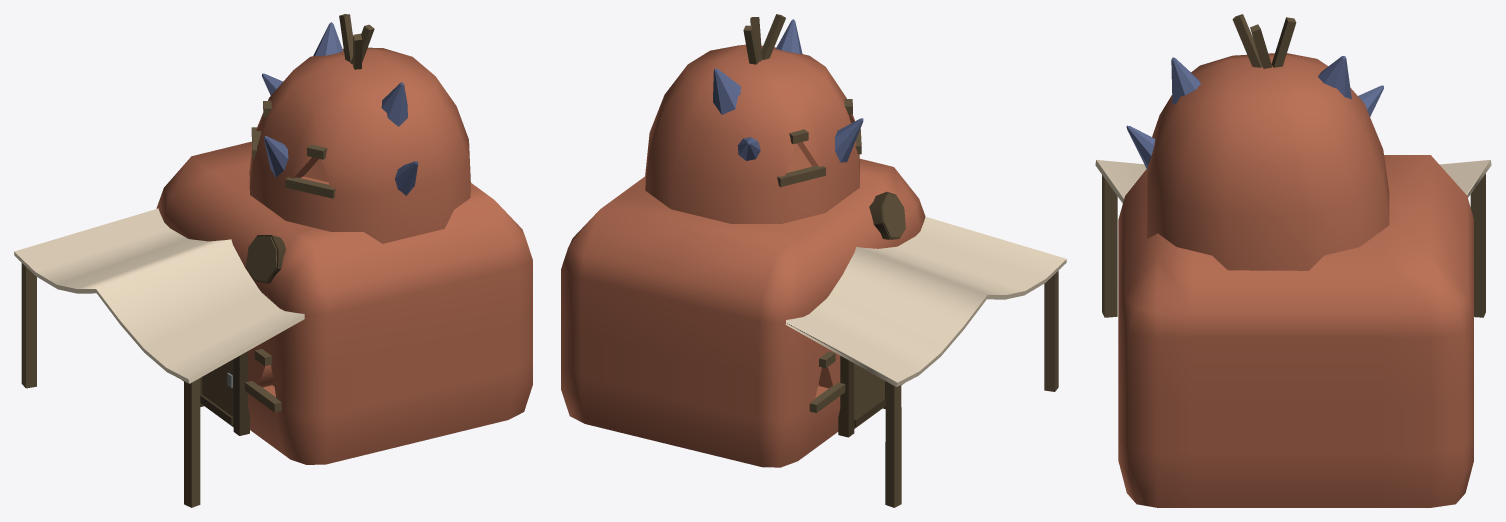
File: House_01.fbx
The picture shows the model from 3 angles, left to right: view 1: azimuth 30°, elevation 25°; view 2: azimuth 150°, elevation 25°; view 3: azimuth 270°, elevation 25°; orthographic projection. The views are drawn at different scales.
Parts seen in each view (by area): view 1: House_01_Main, House_01_Dome, House_01_Cloth, pCube2, pCube1, pCube11, pCube10, pCube28, pCube26, pCube24, pCube15; view 2: House_01_Main, House_01_Dome, House_01_Cloth, pCube1, pCube2, pCube11, pCube9, pCube22, pCube28, pCube24, pCube18; view 3: House_01_Main, House_01_Dome, House_01_Cloth, pCube2, pCube1, pCube26, pCube22, pCube21, pCube19, pCube25, pCube20.
Part boxes in pixels (<box>): House_01_Main: <box>156,141,532,464</box>; House_01_Dome: <box>249,47,470,243</box>; House_01_Cloth: <box>14,208,304,383</box>; pCube2: <box>184,378,200,507</box>; pCube1: <box>21,263,36,388</box>; pCube11: <box>202,359,233,427</box>; pCube10: <box>233,351,249,435</box>; pCube28: <box>246,236,276,281</box>; pCube26: <box>381,82,407,126</box>; pCube24: <box>264,136,288,177</box>; pCube15: <box>285,177,335,198</box>; House_01_Main: <box>561,158,925,467</box>; House_01_Dome: <box>645,44,859,223</box>; House_01_Cloth: <box>785,216,1066,386</box>; pCube1: <box>885,381,901,507</box>; pCube2: <box>1044,271,1058,391</box>; pCube11: <box>854,363,884,428</box>; pCube9: <box>838,356,854,437</box>; pCube22: <box>713,68,740,114</box>; pCube28: <box>881,193,905,237</box>; pCube24: <box>834,118,863,162</box>; pCube18: <box>777,165,825,187</box>; House_01_Main: <box>1118,155,1473,507</box>; House_01_Dome: <box>1147,53,1389,270</box>; House_01_Cloth: <box>1095,159,1491,203</box>; pCube2: <box>1102,175,1117,317</box>; pCube1: <box>1470,173,1485,317</box>; pCube26: <box>1171,57,1200,104</box>; pCube22: <box>1318,56,1351,99</box>; pCube21: <box>1232,14,1261,67</box>; pCube19: <box>1271,17,1296,67</box>; pCube25: <box>1126,125,1155,170</box>; pCube20: <box>1250,24,1272,68</box>.
Bounding box in the file's own units: 622 × 601 × 508.
